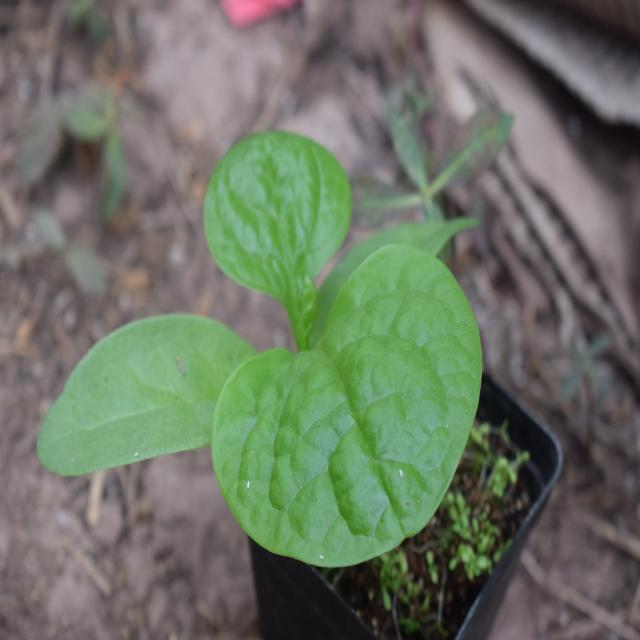Ceylon spinach: (90, 125, 522, 579)
